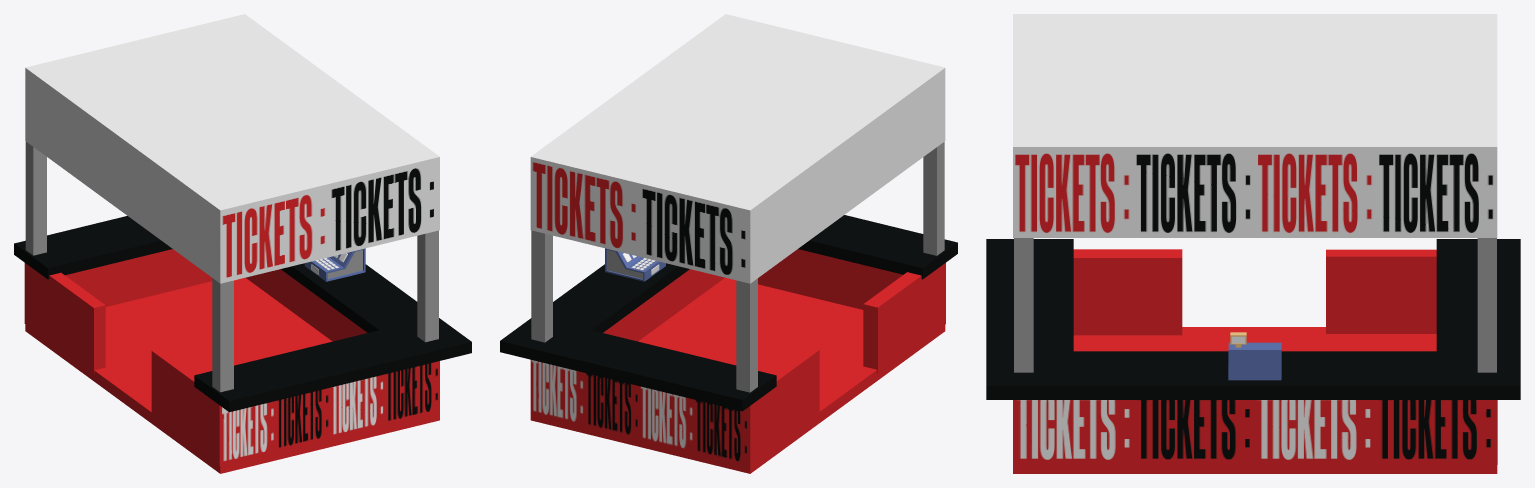
File: TicketBooth.fbx
3 renders of one model, left to right at view 1: azimuth 30°, elevation 25°; view 2: azimuth 150°, elevation 25°; view 3: azimuth 270°, elevation 25°, orthographic. The views are drawn at different scales.
Parts seen in each view (by area): view 1: Cube.011, Cube.005, Cube.006, Cube, Cube.010, Cube.008, Cube.009, Cube.015; view 2: Cube.011, Cube.005, Cube.006, Cube, Cube.009, Cube.007, Cube.010, Cube.015; view 3: Cube.011, Cube.005, Cube.006, Cube, Cube.007, Cube.008, Cube.015.
Boxes of the visible parts, left/top/right/bottom form: Cube.011: left=25, top=14, right=439, bottom=283; Cube.005: left=24, top=249, right=439, bottom=466; Cube.006: left=14, top=216, right=471, bottom=412; Cube: left=25, top=277, right=439, bottom=473; Cube.010: left=212, top=278, right=233, bottom=392; Cube.008: left=417, top=230, right=438, bottom=342; Cube.009: left=25, top=141, right=46, bottom=255; Cube.015: left=304, top=248, right=365, bottom=281; Cube.011: left=530, top=14, right=945, bottom=283; Cube.005: left=530, top=249, right=945, bottom=466; Cube.006: left=500, top=215, right=957, bottom=411; Cube: left=530, top=277, right=945, bottom=473; Cube.009: left=736, top=278, right=757, bottom=392; Cube.007: left=531, top=230, right=552, bottom=342; Cube.010: left=923, top=142, right=944, bottom=255; Cube.015: left=605, top=248, right=665, bottom=281; Cube.011: left=1013, top=14, right=1497, bottom=237; Cube.005: left=1013, top=249, right=1497, bottom=464; Cube.006: left=986, top=239, right=1520, bottom=399; Cube: left=1013, top=327, right=1497, bottom=473; Cube.007: left=1477, top=238, right=1496, bottom=372; Cube.008: left=1014, top=238, right=1033, bottom=372; Cube.015: left=1228, top=332, right=1281, bottom=380.
Bounding box in the file's own units: 766 × 795 × 1178.
